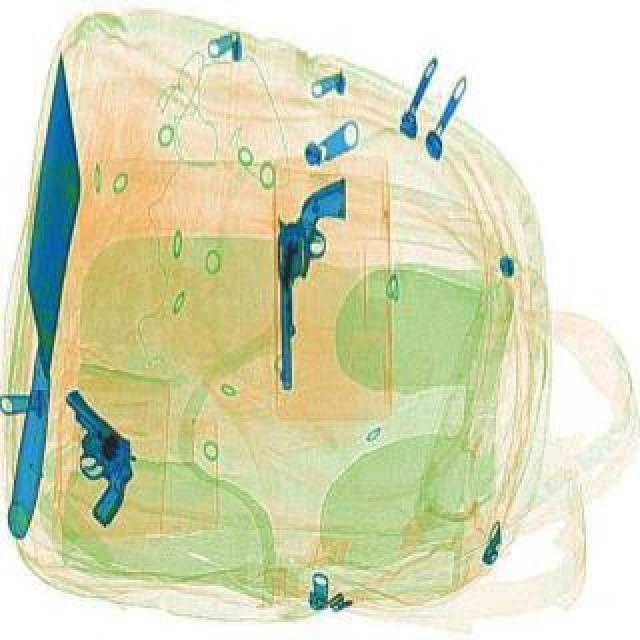gun: (14, 380, 166, 524), (272, 176, 350, 384)
knife: (4, 48, 92, 536)
